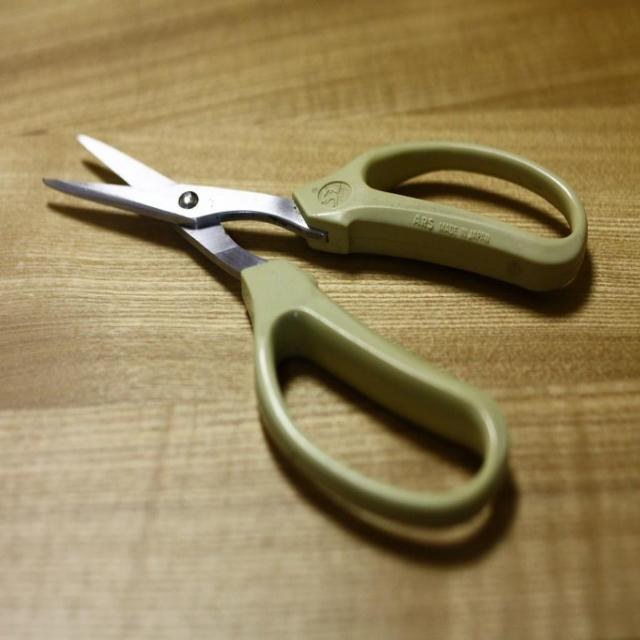scissor: (41, 120, 589, 541)
